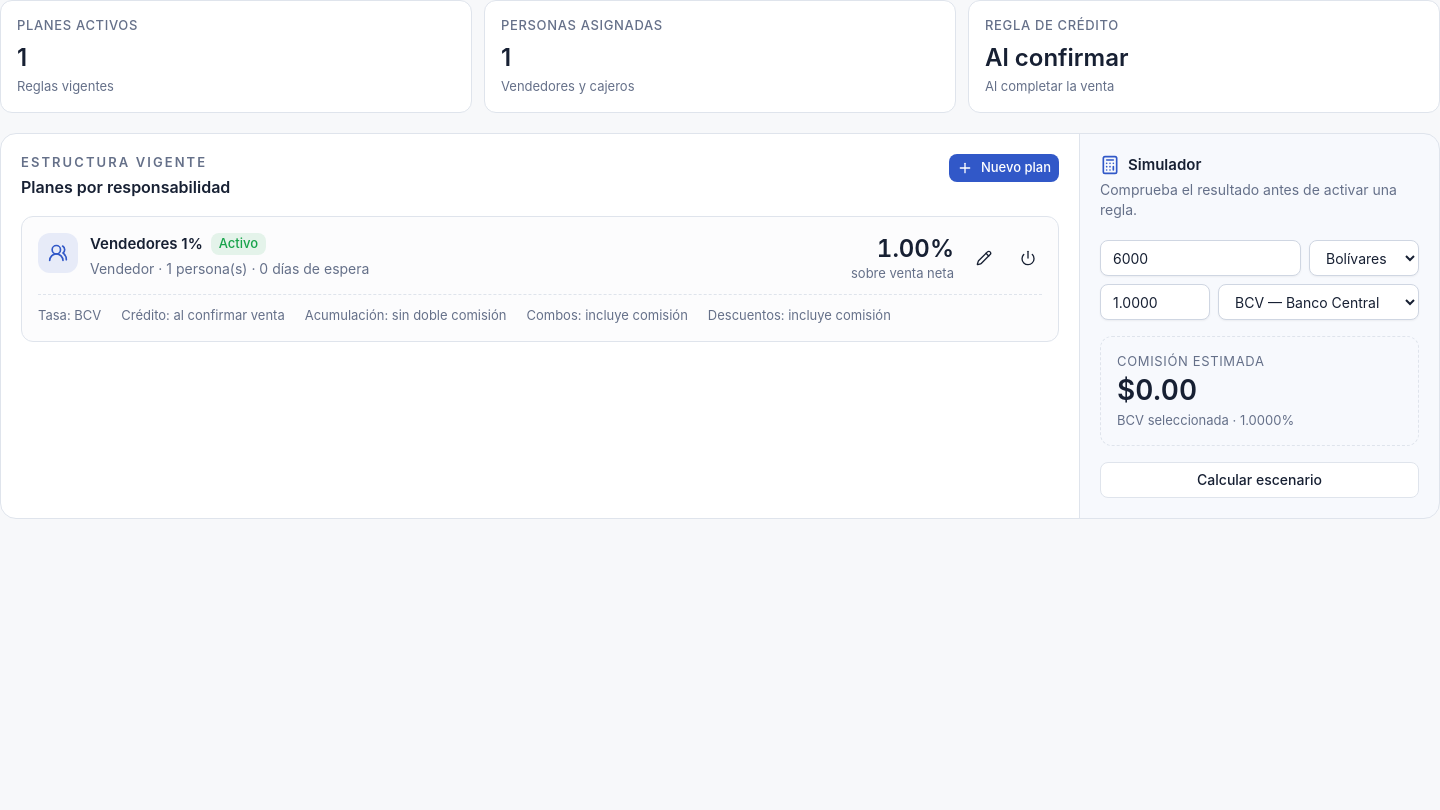
Test case: CommissionsManager simulator › muestra los toggles de combos y descuentos en el nuevo plan
Click the button "Nuevo plan": x=1004, y=168 [949,154,1059,182]
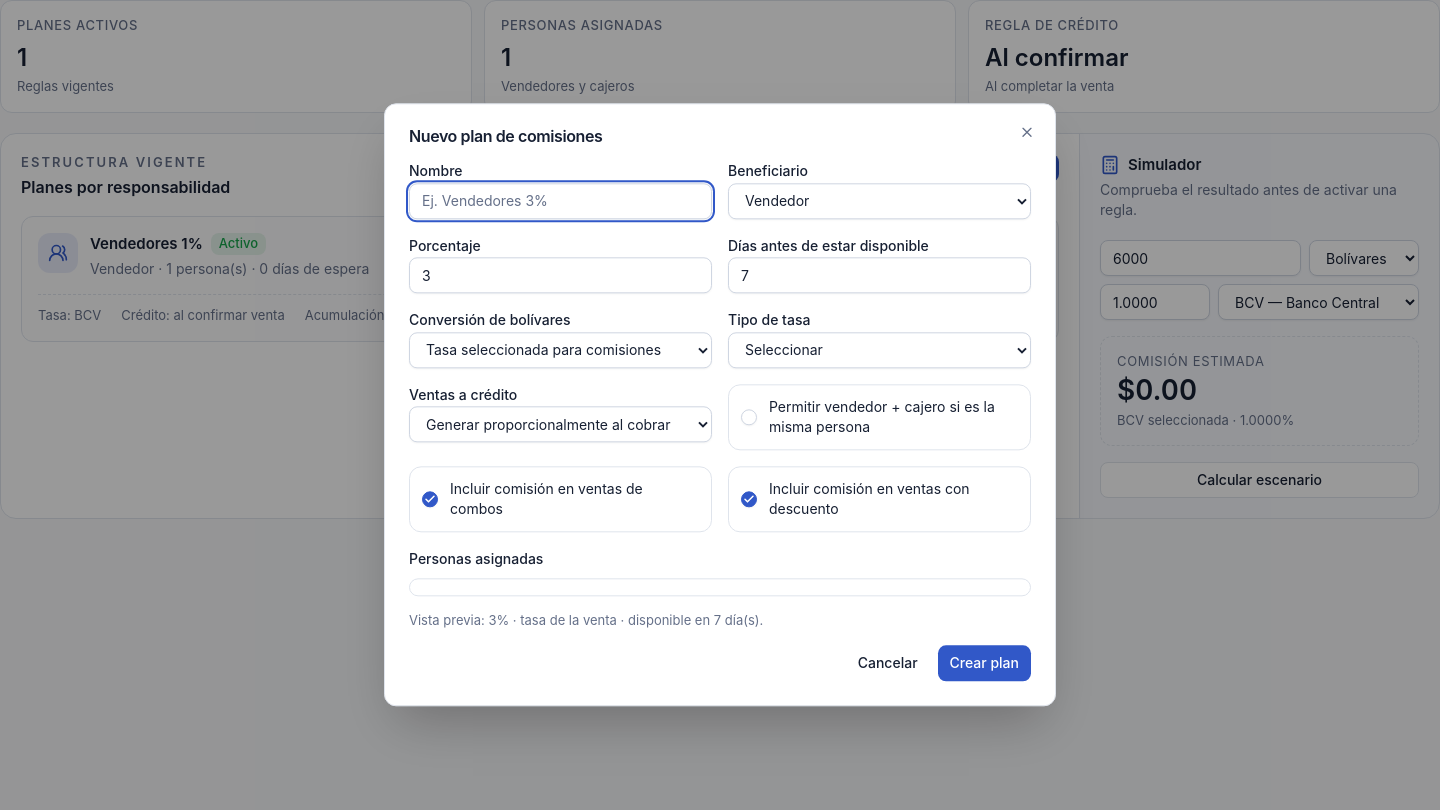
Result: the text "Incluir comisión en ventas de combos" is shown at [450,480,643,517]
Result: the text "Incluir comisión en ventas con descuento" is shown at [769,480,970,517]
